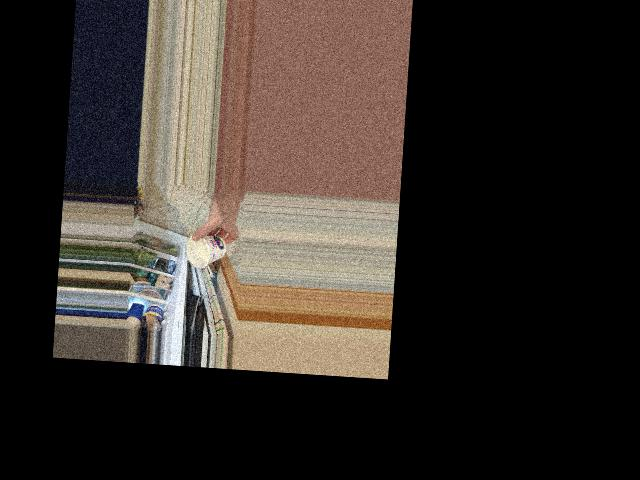cotage: (191, 234, 225, 267)
